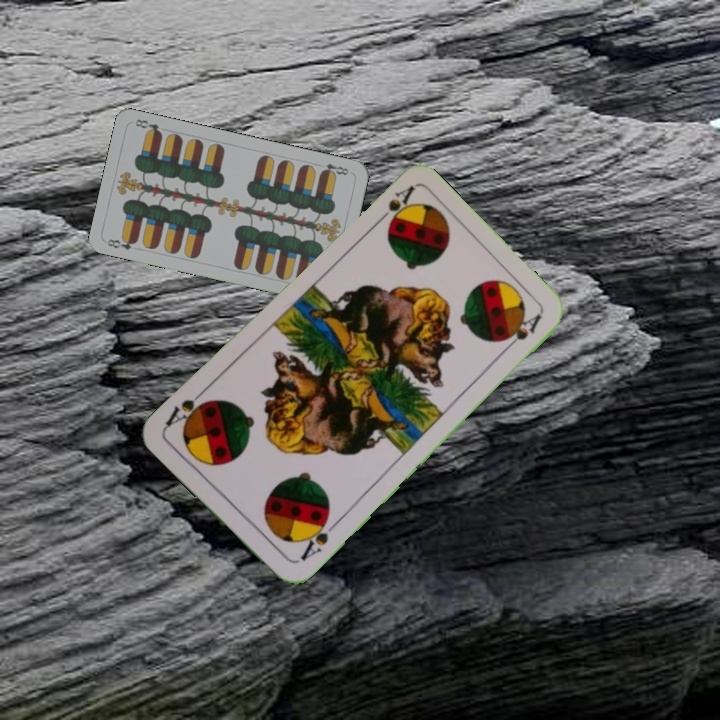E8: (313, 159, 351, 179), (103, 233, 140, 253)
SA: (295, 512, 340, 564), (370, 182, 417, 229)
